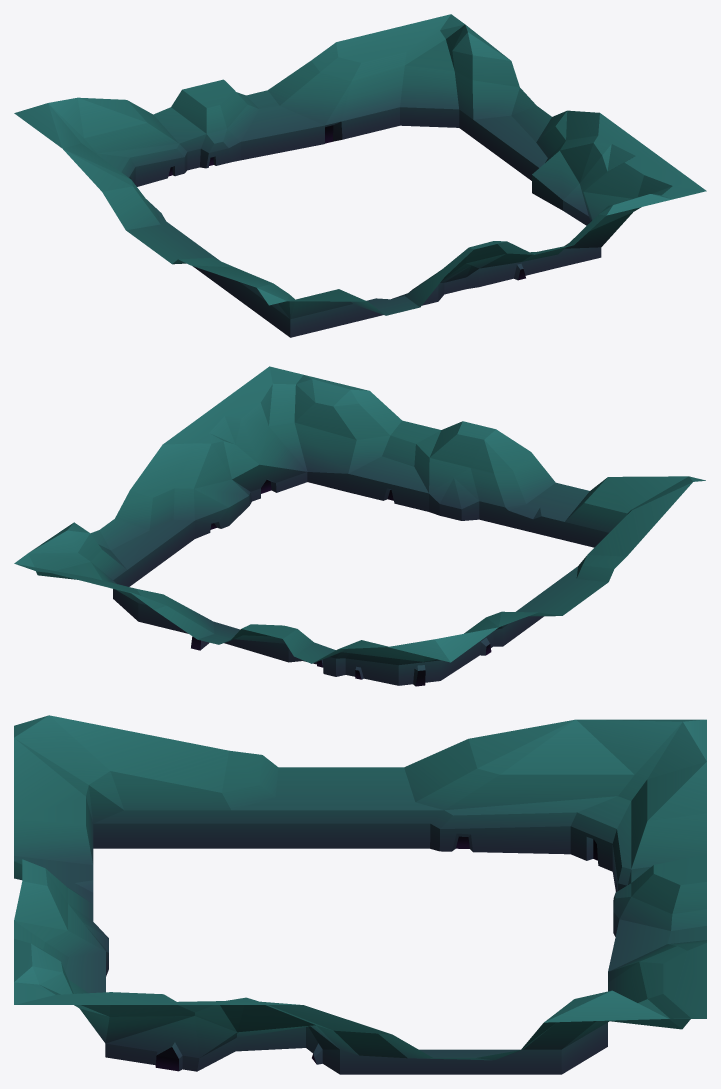
File: World_Borders.gltf
3 views of the same model, one above another, from view 1: azimuth 30°, elevation 25°; view 2: azimuth 150°, elevation 25°; view 3: azimuth 270°, elevation 25° (orthographic). The views are drawn at different scales.
Visible parts, largest first — view 1: World_Borders; view 2: World_Borders; view 3: World_Borders.
Boxes of the visible parts, <box> form: World_Borders: <box>14,14,706,337</box>; World_Borders: <box>14,366,705,686</box>; World_Borders: <box>14,715,706,1074</box>.
Size of the model in its own units: 308 by 59.37 by 311.
1 material, 1 textured.
